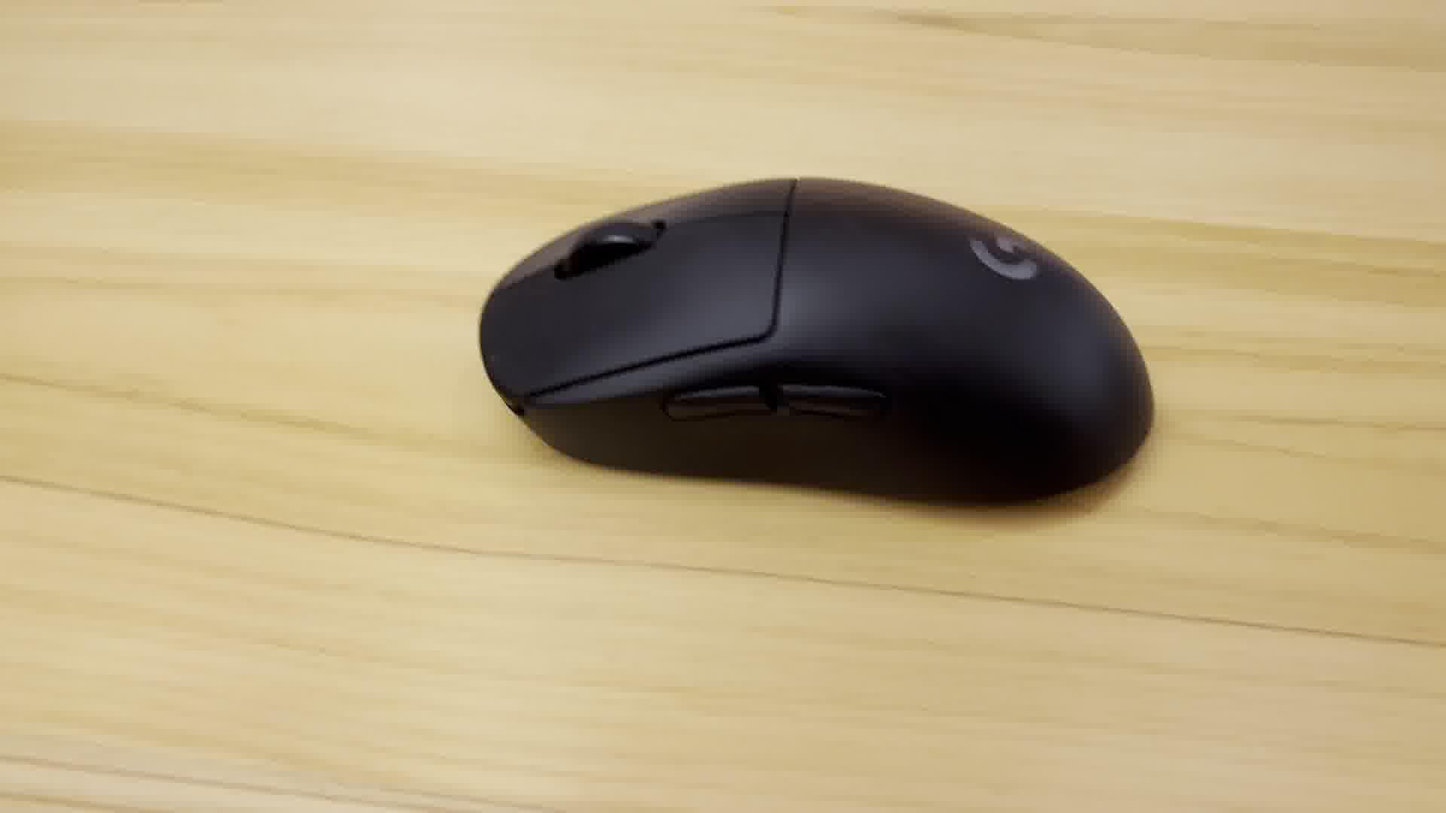logicool: (469, 161, 1165, 524)
